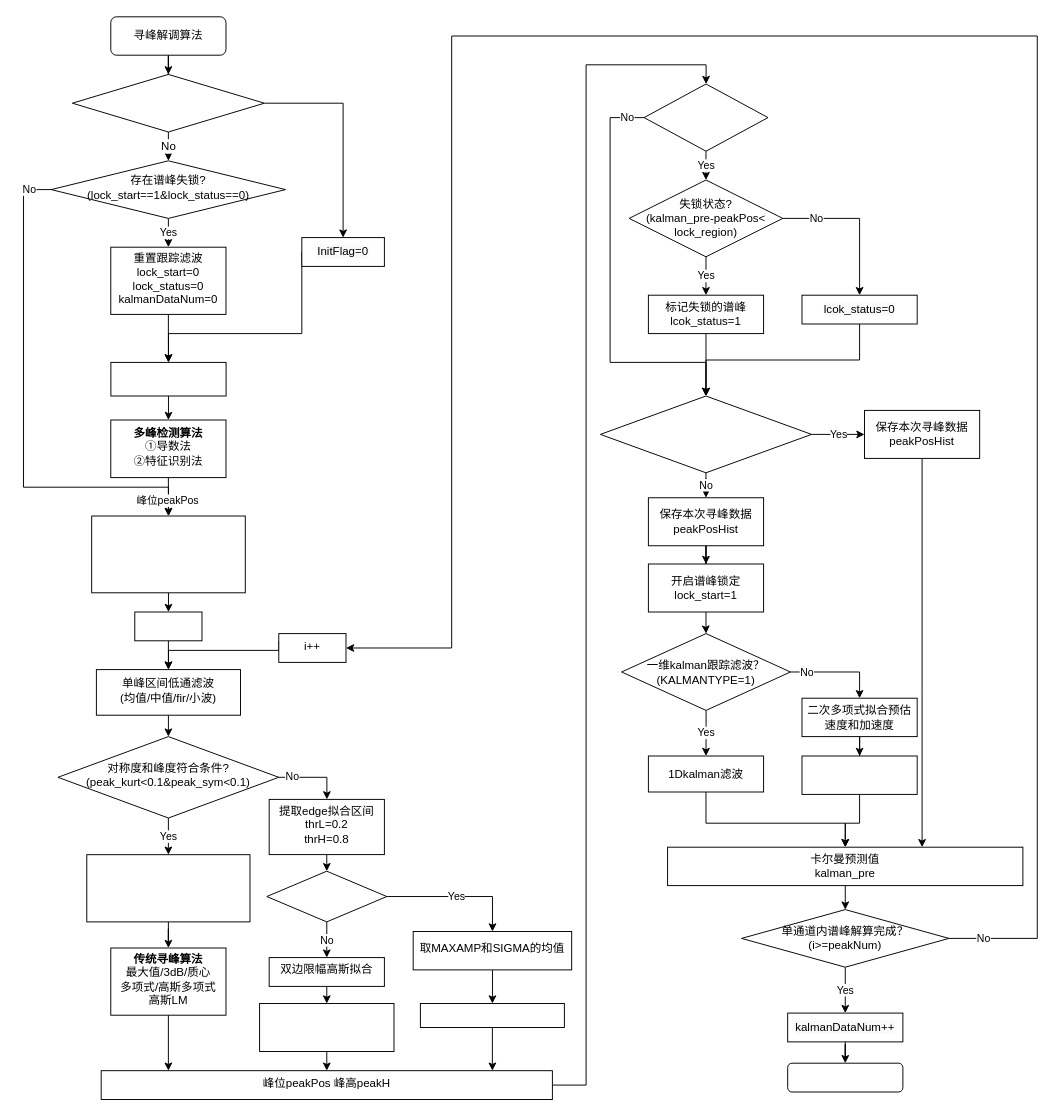
This 1062x1116 diagram has some shape labels left out. Each missing label, with the box of its shape:
2Dkalman滤波: (801, 755, 917, 794)
kalman数据累积未完成？ (kalmanDataNum<FITNUM): (599, 395, 812, 473)
低通滤波 (均值/中值/fir/小波): (110, 361, 226, 396)
保存最大幅值MAXAMP 和高斯标准差SIGMA: (259, 1003, 394, 1051)
单通道寻峰结束: (787, 1062, 903, 1092)
双边限幅限宽高斯拟合: (419, 1003, 564, 1027)
多峰检测状态? (InitFlag==1): (71, 73, 264, 132)
提取FWHM拟合区间 拟合点数FIT_NUM 样点间隔 interval=[peakwid/FIT_NUM]: (86, 854, 250, 922)
第i=0个峰: (134, 611, 202, 641)
谱峰信息提取 峰数peakNum 峰宽peakwid、峰高peakH 峰度peak_kurt 对称度peak_sym: (91, 515, 245, 593)
锁定开启？ (lock_start=1): (643, 83, 768, 151)
锁定状态？ (lock_status=1): (266, 870, 387, 922)
